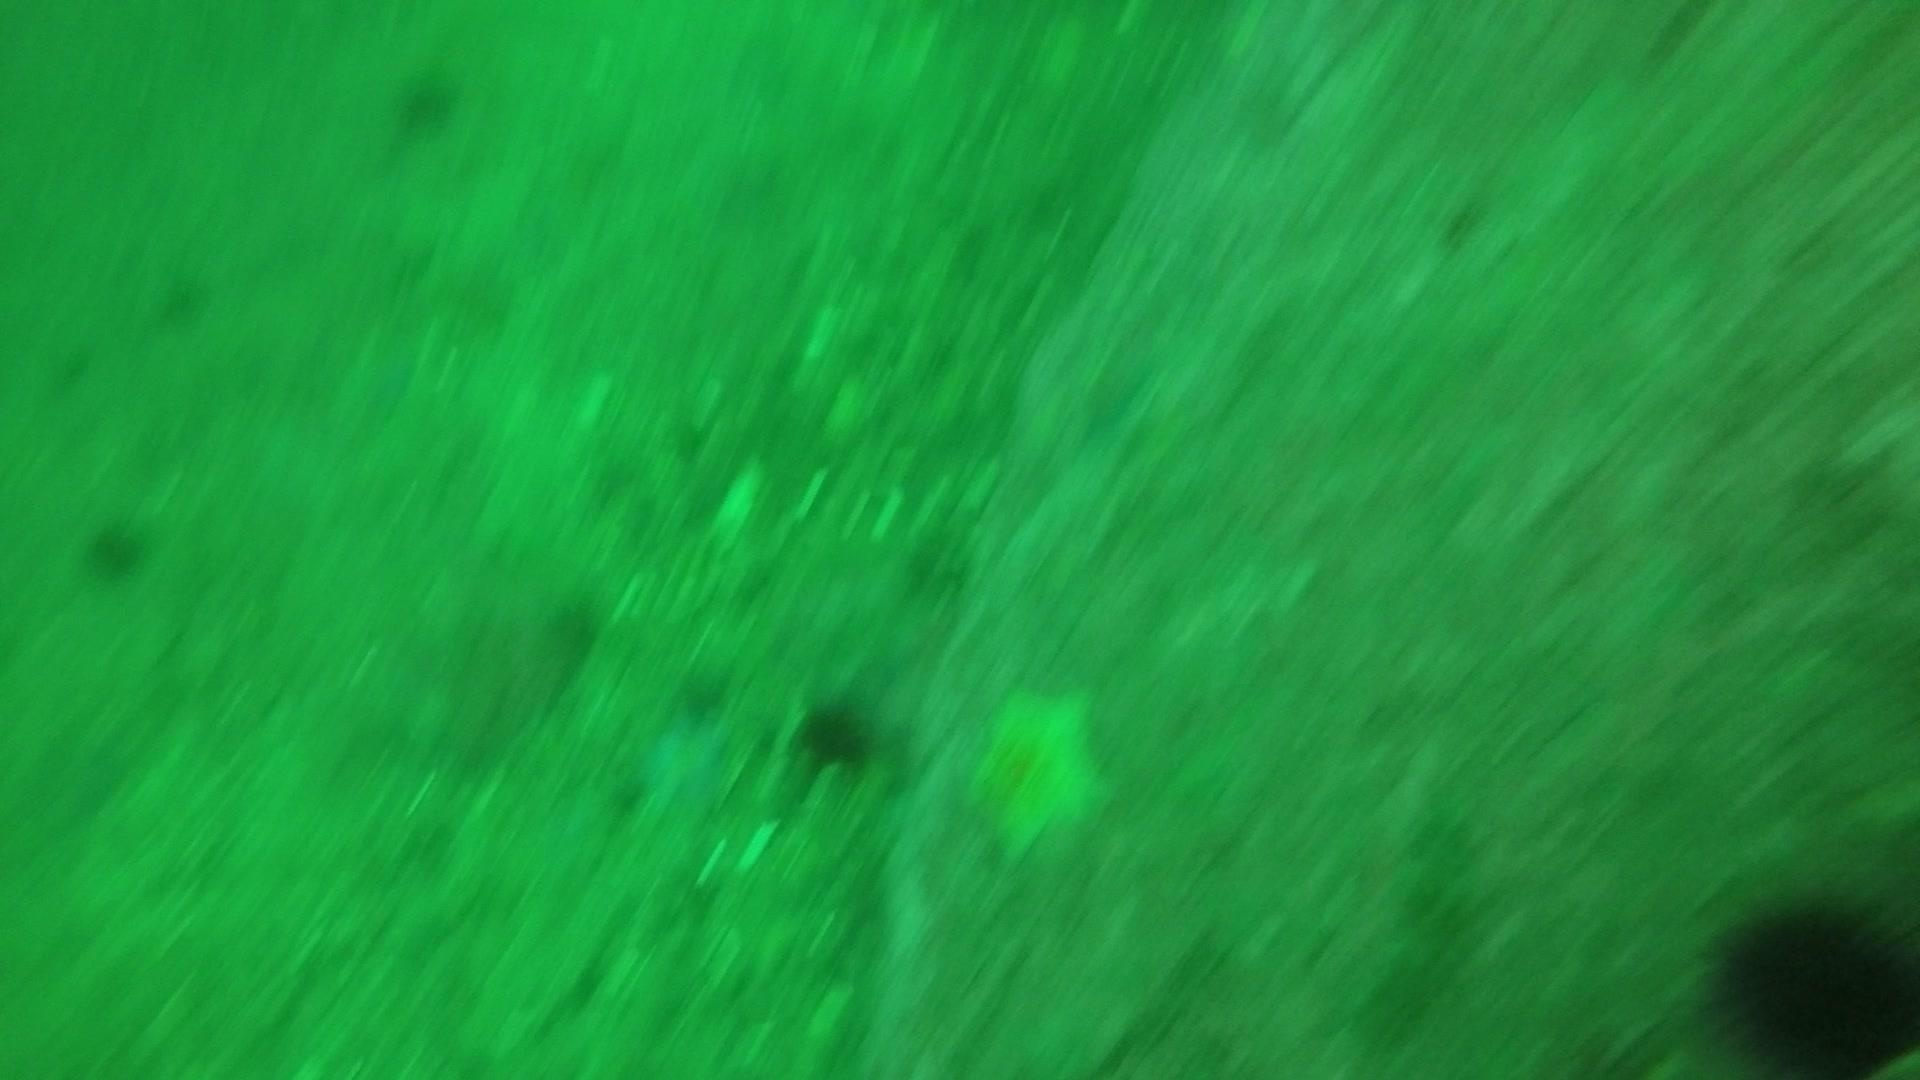echinus: (1702, 887, 1919, 1072), (791, 691, 881, 775), (389, 65, 465, 136), (78, 513, 153, 583)
starfish: (952, 678, 1117, 870), (621, 698, 746, 827)
